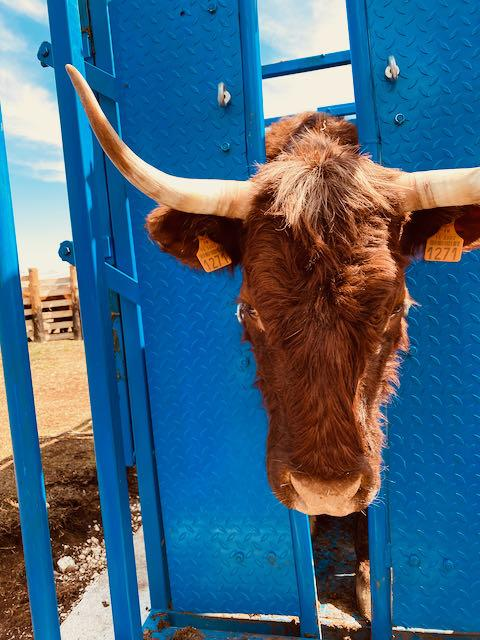muzzles: (251, 463, 393, 533)
